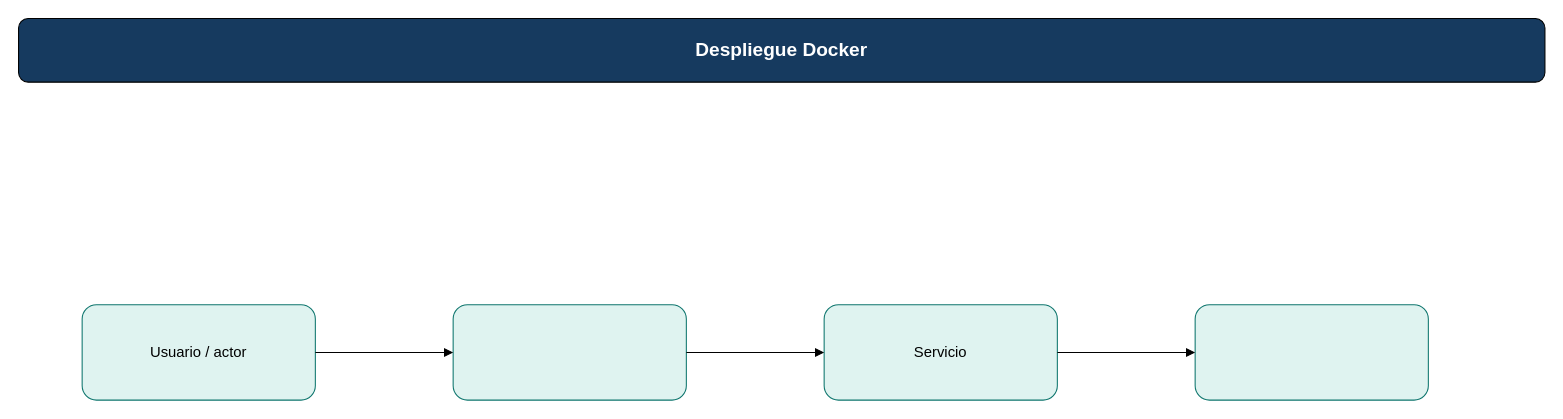
Some shapes in this 1563 by 419 pixel diagram are drawn without their labels. The shapes that lost their labels are listed below. From the top down, each one's centre as x and y in pixels, then its label:
At (569,352): "EASYDOC".
At (1311,352): "Datos / resultado".
